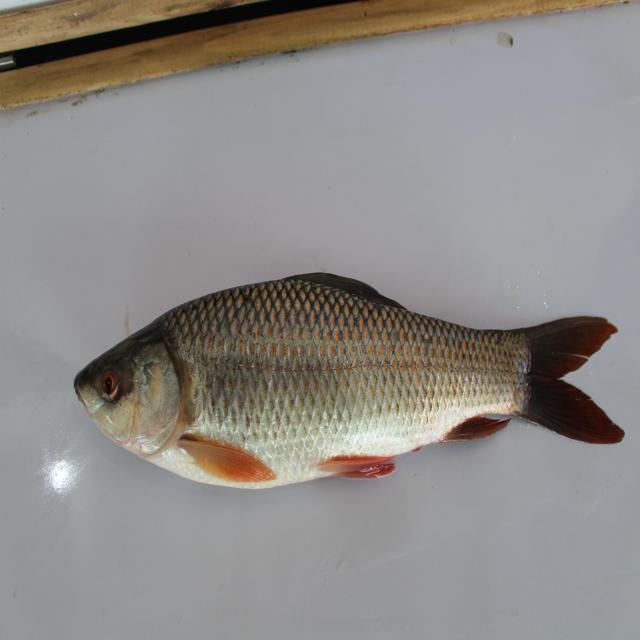Rohu: (62, 280, 626, 493)
